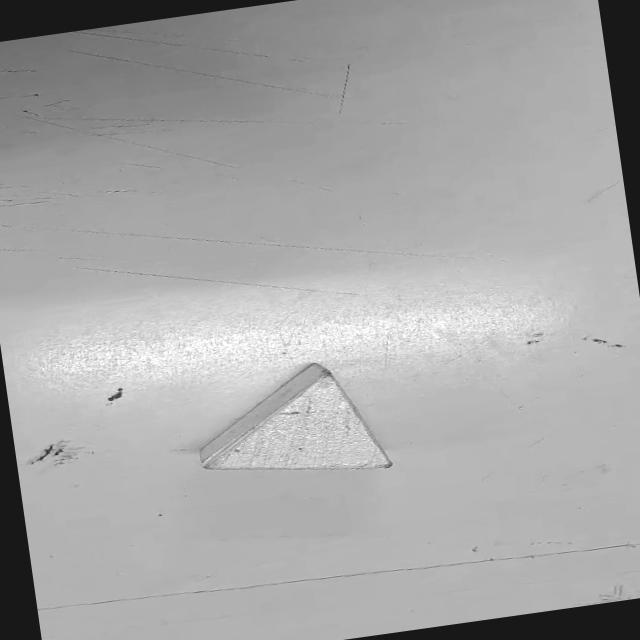ytriangle: (187, 354, 396, 496)
